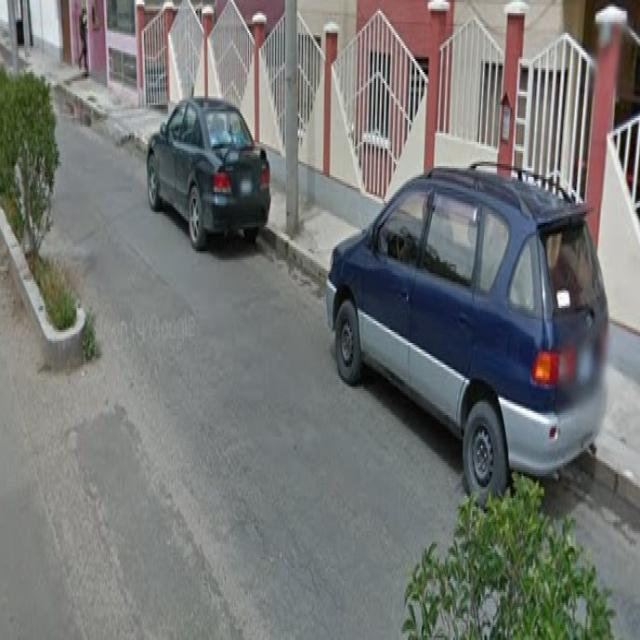cars: (324, 134, 610, 510), (140, 91, 279, 278)
